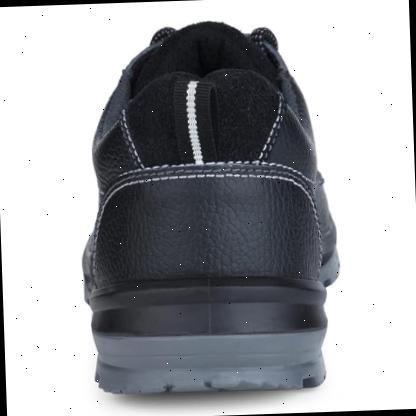bota: (71, 13, 346, 402)
